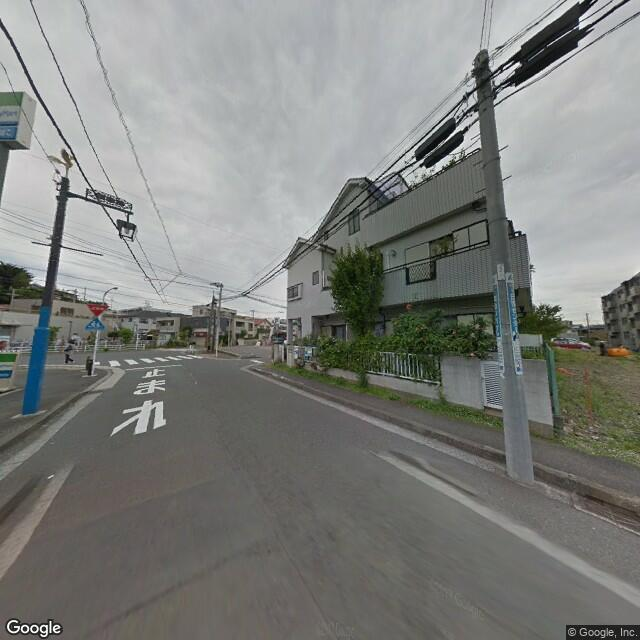family_mart: (1, 90, 30, 138), (1, 350, 20, 380)
